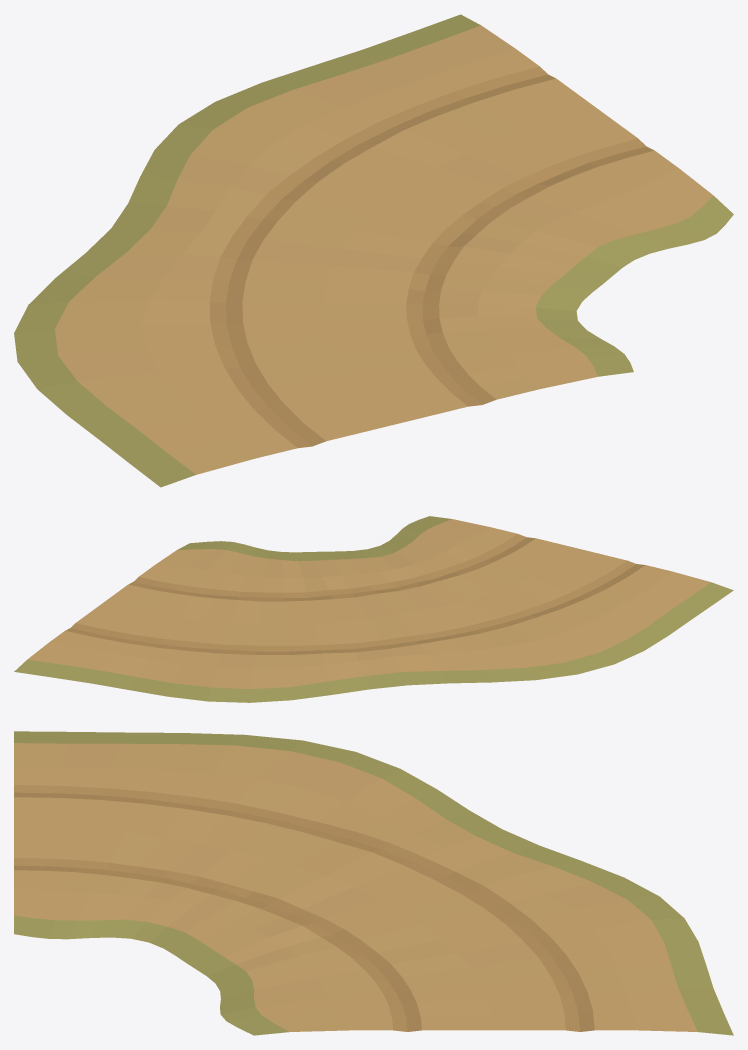
The model's file is Path_Dirt_Corner.fbx.
The picture shows the model from 3 angles, top to bottom: view 1: azimuth 30°, elevation 25°; view 2: azimuth 150°, elevation 25°; view 3: azimuth 270°, elevation 25°; orthographic projection. The views are drawn at different scales.
Visible parts, largest first — view 1: Path_Dirt_Corner; view 2: Path_Dirt_Corner; view 3: Path_Dirt_Corner.
Part boxes in pixels (x1,y1,x2,y2): Path_Dirt_Corner: (14,14,733,487); Path_Dirt_Corner: (14,516,733,702); Path_Dirt_Corner: (14,731,733,1035).
Bounding box in the file's own units: 4.8 × 0.0439 × 4.8.
